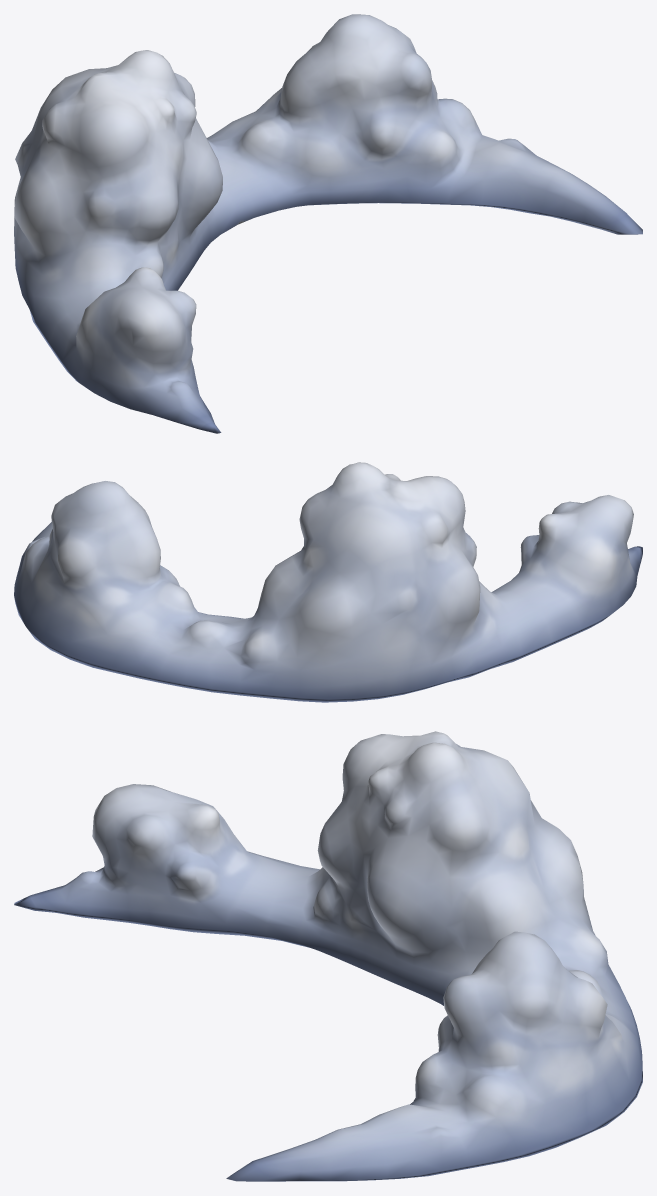
File: clouds_curve.fbx
3 renders of one model, top to bottom at view 1: azimuth 30°, elevation 25°; view 2: azimuth 150°, elevation 25°; view 3: azimuth 270°, elevation 25°, orthographic. The views are drawn at different scales.
Visible parts, largest first — view 1: cloud_curve; view 2: cloud_curve; view 3: cloud_curve.
Boxes of the visible parts, x1=… form: cloud_curve: x1=14, y1=14, x2=642, y2=433; cloud_curve: x1=14, y1=462, x2=642, y2=702; cloud_curve: x1=14, y1=731, x2=642, y2=1181.
Size of the model in its own units: 1572 by 548 by 1371.
